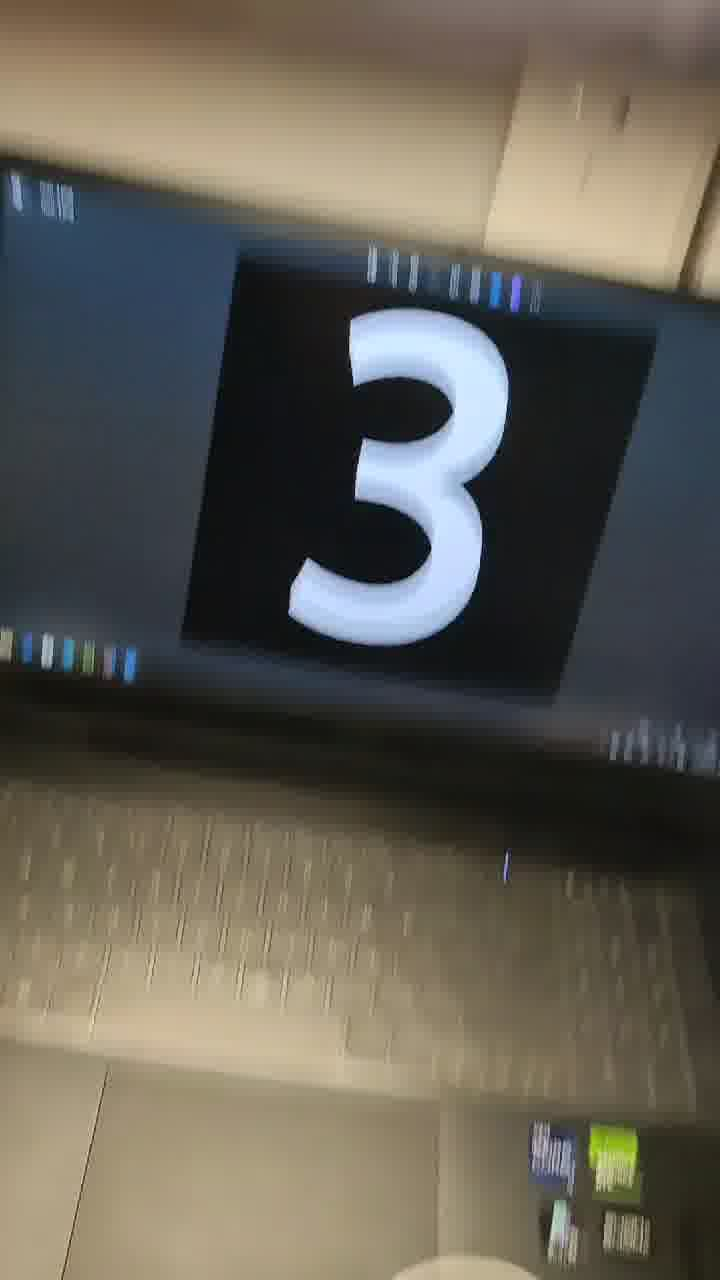three: (278, 229, 536, 715)
